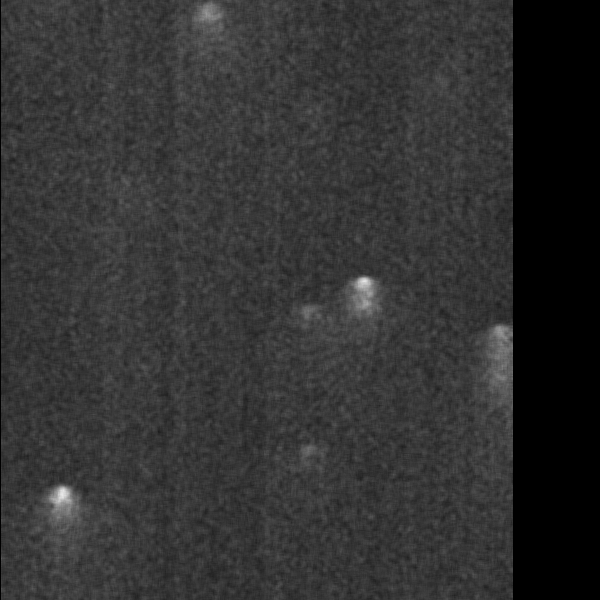spark: (485, 318, 512, 506), (344, 272, 384, 363), (41, 483, 80, 557), (182, 1, 235, 55), (285, 298, 326, 366), (297, 438, 321, 484)
